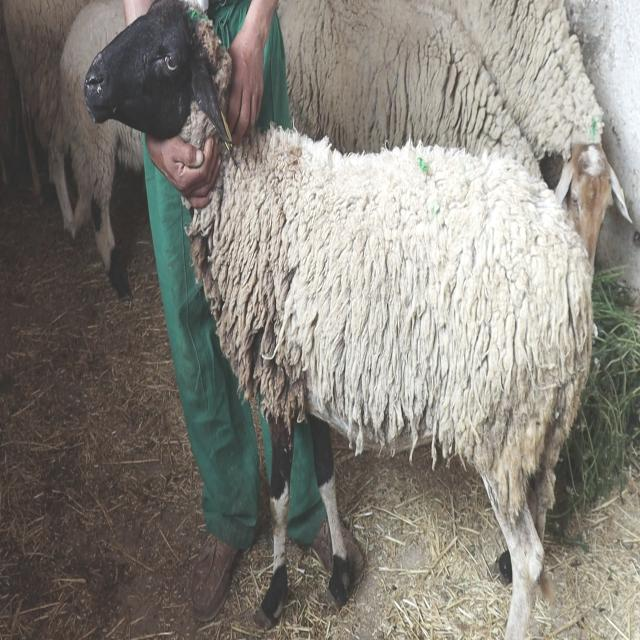Score_2: (85, 0, 593, 639)
